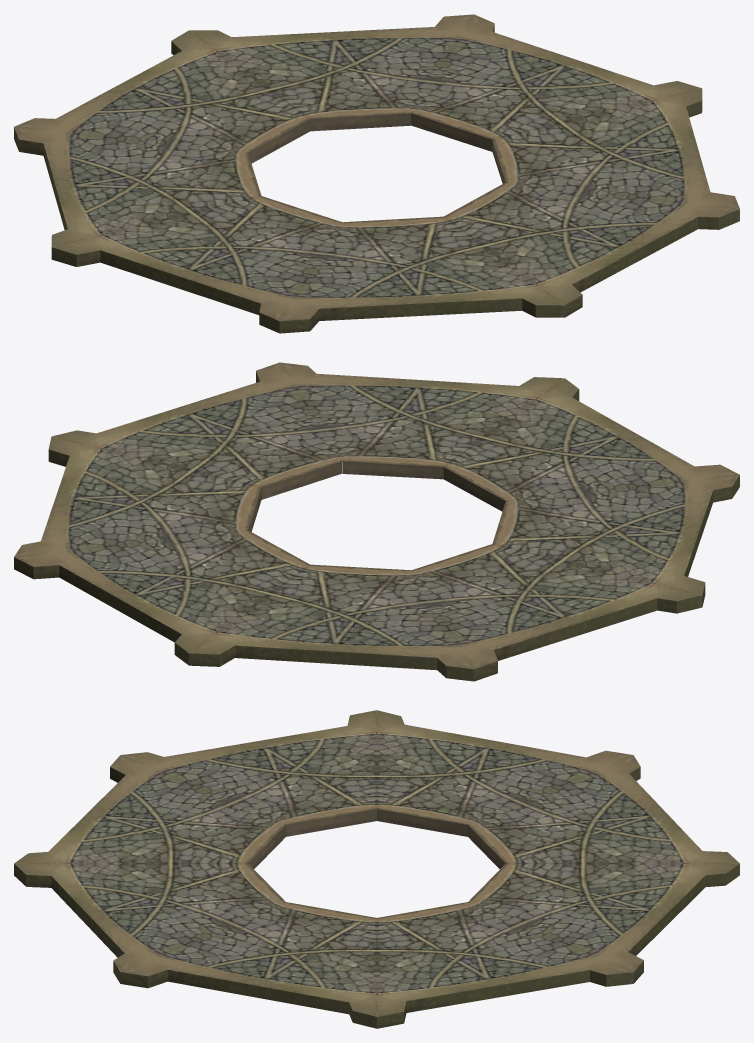
File: sh_a_ruinlower_pt10.FBX
The picture shows the model from 3 angles, top to bottom: view 1: azimuth 30°, elevation 25°; view 2: azimuth 150°, elevation 25°; view 3: azimuth 270°, elevation 25°; orthographic projection. The views are drawn at different scales.
Parts seen in each view (by area): view 1: sh_a_ruinlower_pt10; view 2: sh_a_ruinlower_pt10; view 3: sh_a_ruinlower_pt10.
Boxes of the visible parts, bbox=[...] form: sh_a_ruinlower_pt10: bbox=[14, 14, 739, 333]; sh_a_ruinlower_pt10: bbox=[14, 362, 739, 681]; sh_a_ruinlower_pt10: bbox=[14, 710, 739, 1028].
Bounding box in the file's own units: 1641 × 29.75 × 1641.
